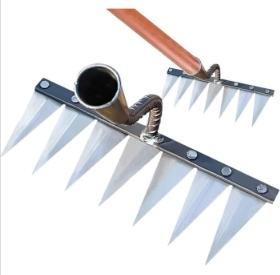RATEAU: (5, 0, 280, 275)
